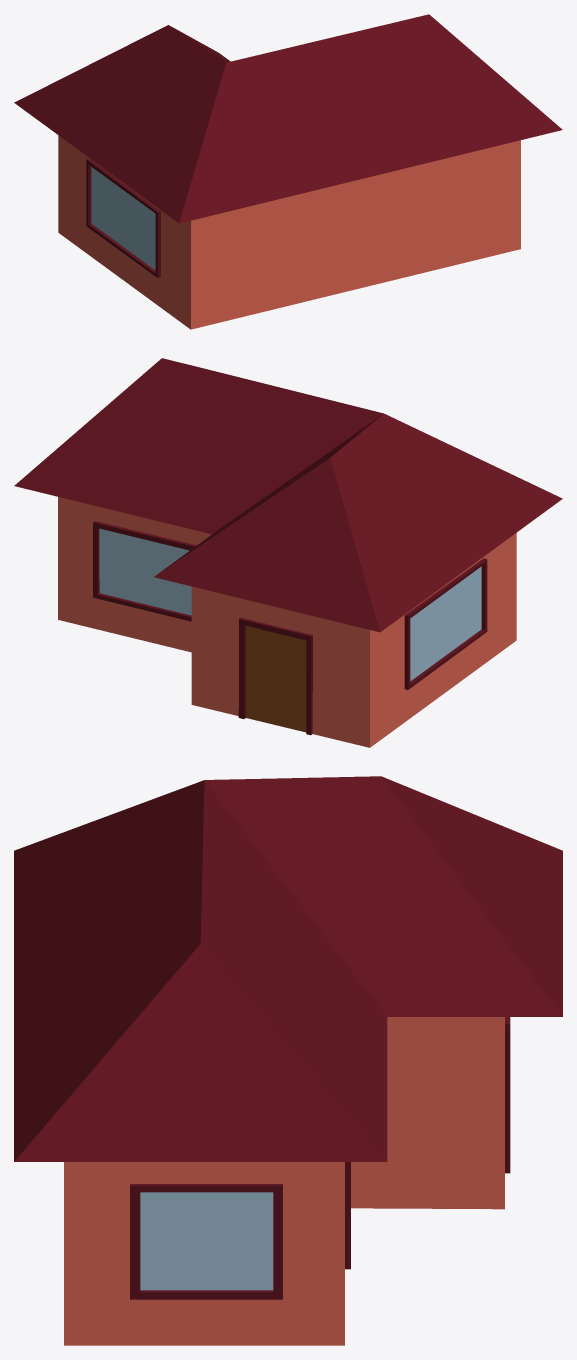
The model's file is corner building.fbx.
3 views of the same model, one above another, from view 1: azimuth 30°, elevation 25°; view 2: azimuth 150°, elevation 25°; view 3: azimuth 270°, elevation 25° (orthographic). The views are drawn at different scales.
Visible parts, largest first — view 1: Cube; view 2: Cube; view 3: Cube.
Part boxes in pixels (x1=…): Cube: x1=14, y1=14, x2=562, y2=329; Cube: x1=14, y1=358, x2=562, y2=747; Cube: x1=14, y1=776, x2=562, y2=1345.
Size of the model in its own units: 6136 by 3323 by 4573.
